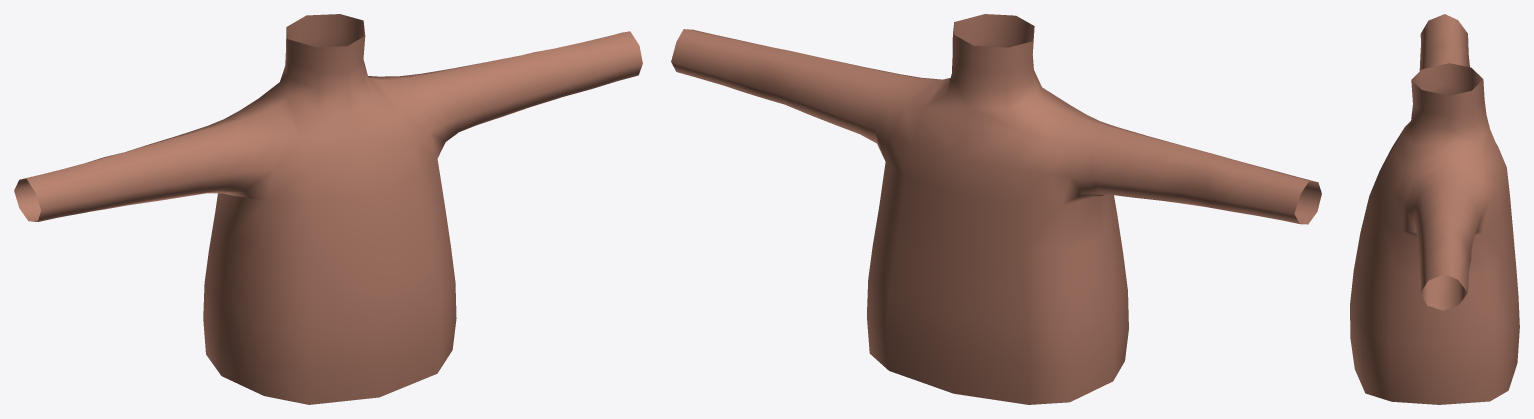
File: Body_Brown_Top_2.fbx
3 renders of one model, left to right at view 1: azimuth 30°, elevation 25°; view 2: azimuth 150°, elevation 25°; view 3: azimuth 270°, elevation 25°, orthographic. The views are drawn at different scales.
Visible parts, largest first — view 1: Body_Brown_Top_2; view 2: Body_Brown_Top_2; view 3: Body_Brown_Top_2.
Part boxes in pixels (bbox=[...]): Body_Brown_Top_2: bbox=[14, 14, 642, 404]; Body_Brown_Top_2: bbox=[671, 14, 1321, 404]; Body_Brown_Top_2: bbox=[1350, 14, 1519, 404].
Bounding box in the file's own units: 95.86 × 49.84 × 26.46.
